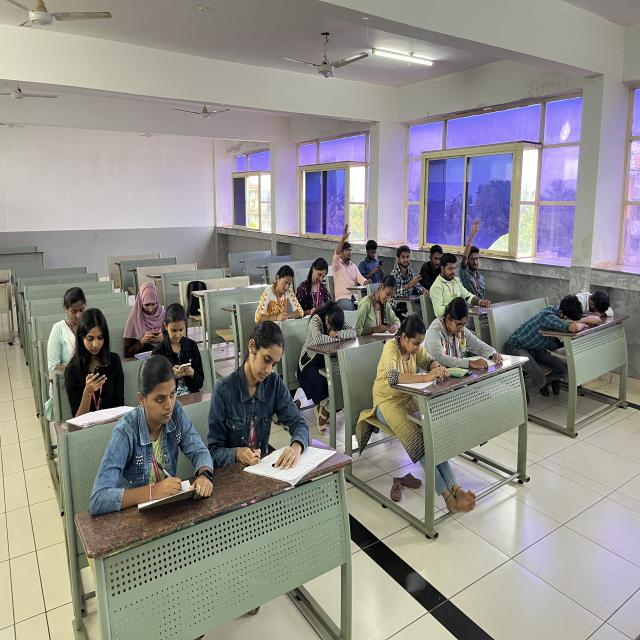Hand Rising: (458, 214, 489, 283), (329, 218, 359, 284)
Reading: (364, 317, 436, 493), (425, 300, 490, 379)
Sleeping: (502, 294, 598, 400), (295, 303, 348, 442), (572, 290, 612, 320)
Using Phone: (64, 307, 125, 419), (152, 301, 206, 393), (433, 246, 488, 324), (122, 280, 168, 356), (47, 287, 83, 376), (295, 259, 331, 316), (358, 241, 383, 286)
Writing: (89, 354, 217, 517), (210, 324, 301, 473), (255, 267, 302, 324), (360, 276, 400, 337)
